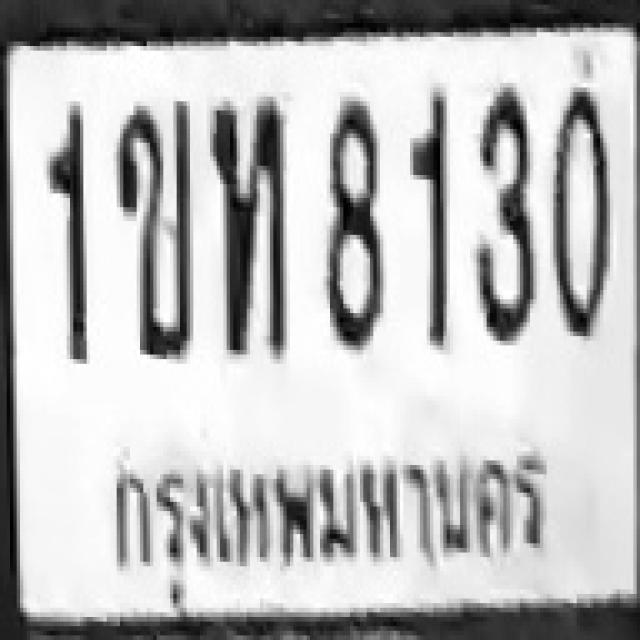0: (550, 83, 610, 336)
1: (45, 101, 85, 364), (408, 90, 448, 343)
11KhorKhai: (112, 99, 192, 357)
3: (472, 85, 535, 343)
32ThorThaHan: (210, 96, 287, 354)
8: (324, 97, 384, 350)
Bangkok: (95, 432, 566, 610)
